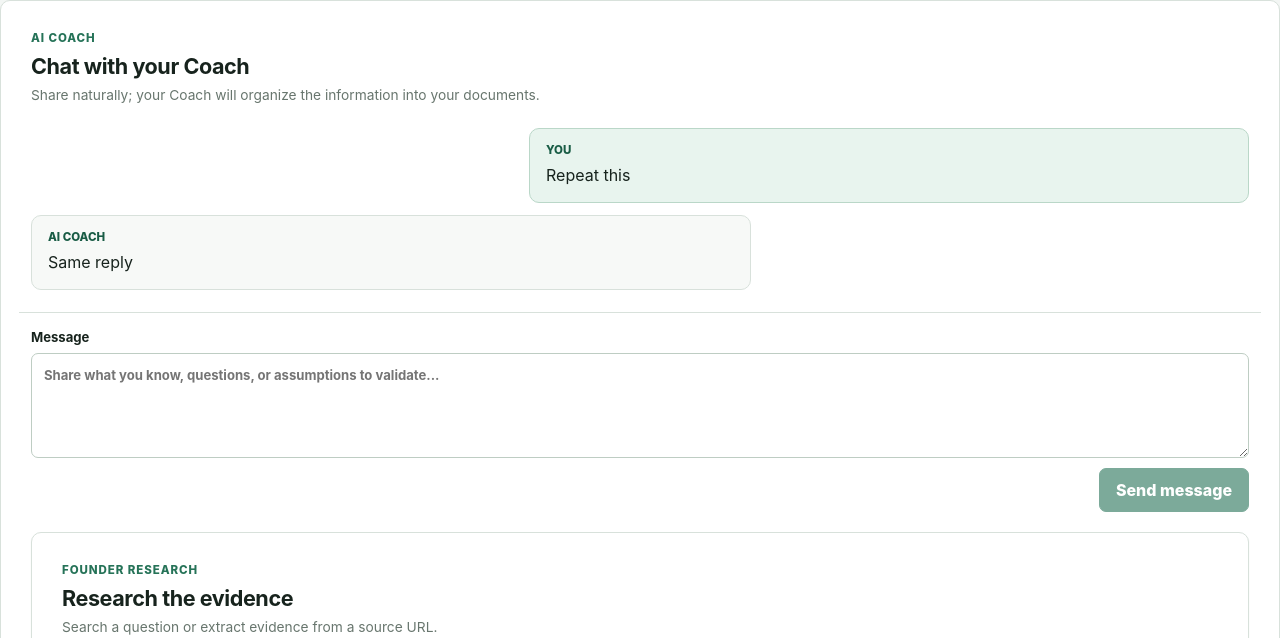
Test case: ChatPanel › uses refetched history after later sends in an existing session without local duplicates
Expected: the text "Repeat this" is shown once, [546,165,630,185]
In the text box labelled "Message": (640, 405) [31,353,1249,458], type "Repeat this"
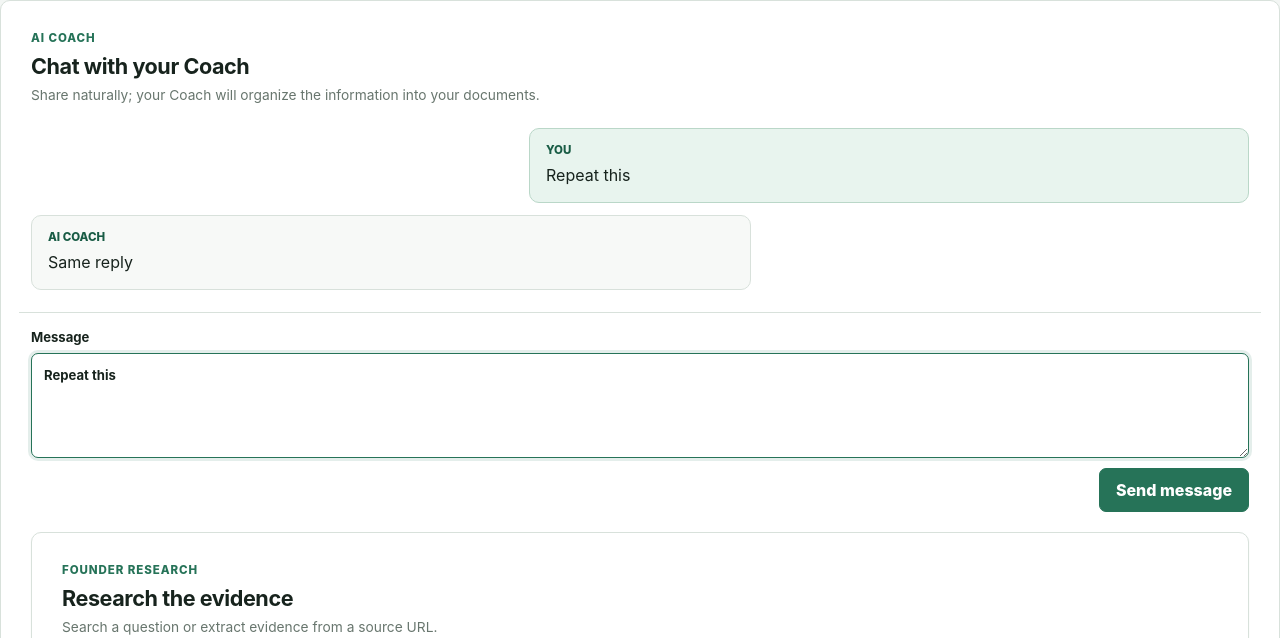
Click the button "Send message": (1174, 490) [1099,468,1249,512]
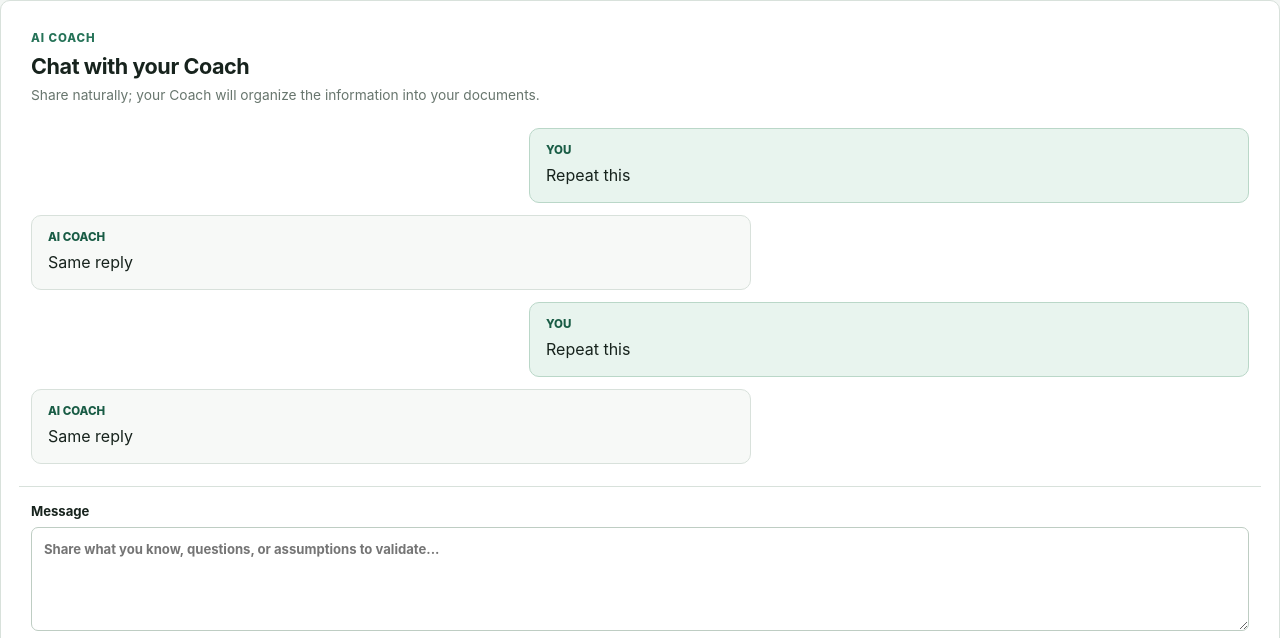
Result: the text "Repeat this" is shown 2 times at [546,165,630,185]; [546,339,630,359]
Result: the text "Same reply" is shown 2 times at [48,252,133,272]; [48,426,133,446]
